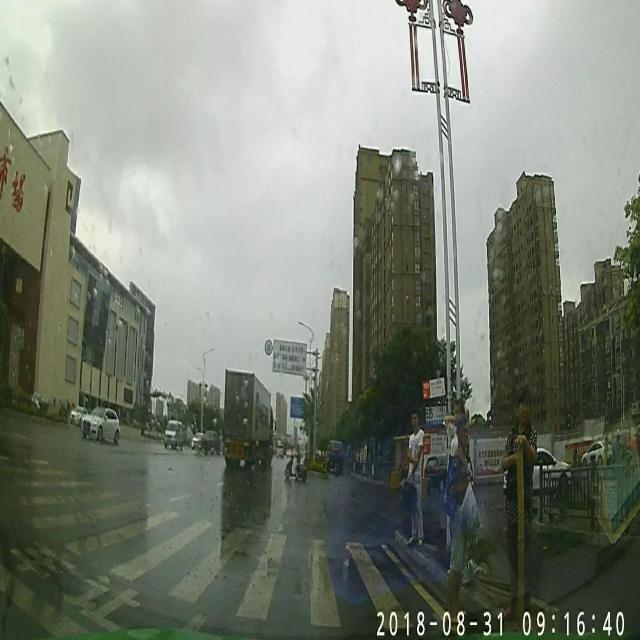car: (224, 368, 274, 462), (84, 404, 120, 440), (167, 420, 183, 448)
